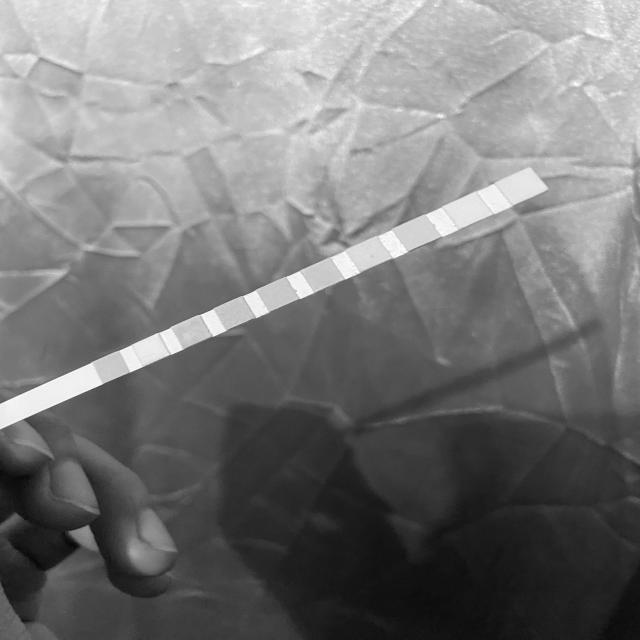Bilirubin: (138, 342, 164, 358)
Blood: (264, 286, 292, 302)
Glucose: (98, 359, 124, 375)
Ketone: (179, 323, 205, 341)
Leukocytes: (504, 178, 538, 195)
Nitrite: (450, 202, 485, 219)
Protein: (353, 246, 384, 262)
SpGravity: (223, 304, 247, 322)
Urobilinogen: (402, 224, 433, 241)
background: (0, 0, 640, 640)
pH: (309, 266, 337, 283)
strip: (1, 167, 549, 430)
